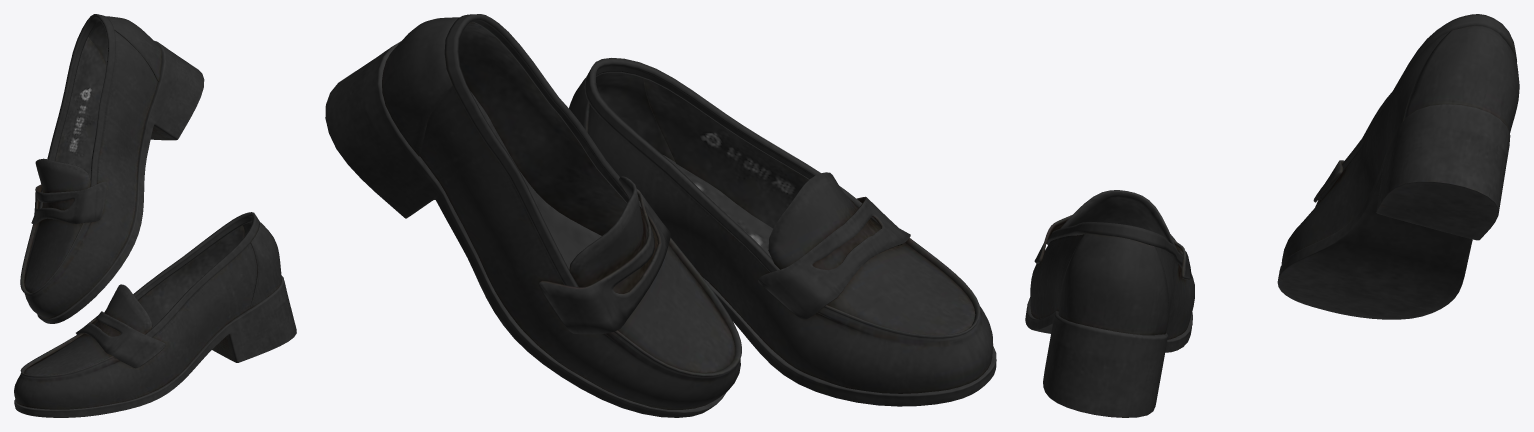
The model's file is shoes.gltf.
3 views of the same model, side by side, from view 1: azimuth 30°, elevation 25°; view 2: azimuth 150°, elevation 25°; view 3: azimuth 270°, elevation 25° (orthographic). The views are drawn at different scales.
Parts seen in each view (by area): view 1: Plane.001_l_0, Plane.001_l.001_1; view 2: Plane.001_l_0, Plane.001_l.001_1; view 3: Plane.001_l_0, Plane.001_l.001_1.
Boxes of the visible parts, box(x1,y1,x2,y2) form: Plane.001_l_0: box(20, 14, 204, 323); Plane.001_l.001_1: box(14, 212, 296, 417); Plane.001_l_0: box(325, 14, 741, 417); Plane.001_l.001_1: box(569, 58, 996, 406); Plane.001_l_0: box(1277, 14, 1519, 319); Plane.001_l.001_1: box(1025, 190, 1194, 417).
Bounding box in the file's own units: 0.3645 × 0.3287 × 0.3615.
1 material, 1 textured.
